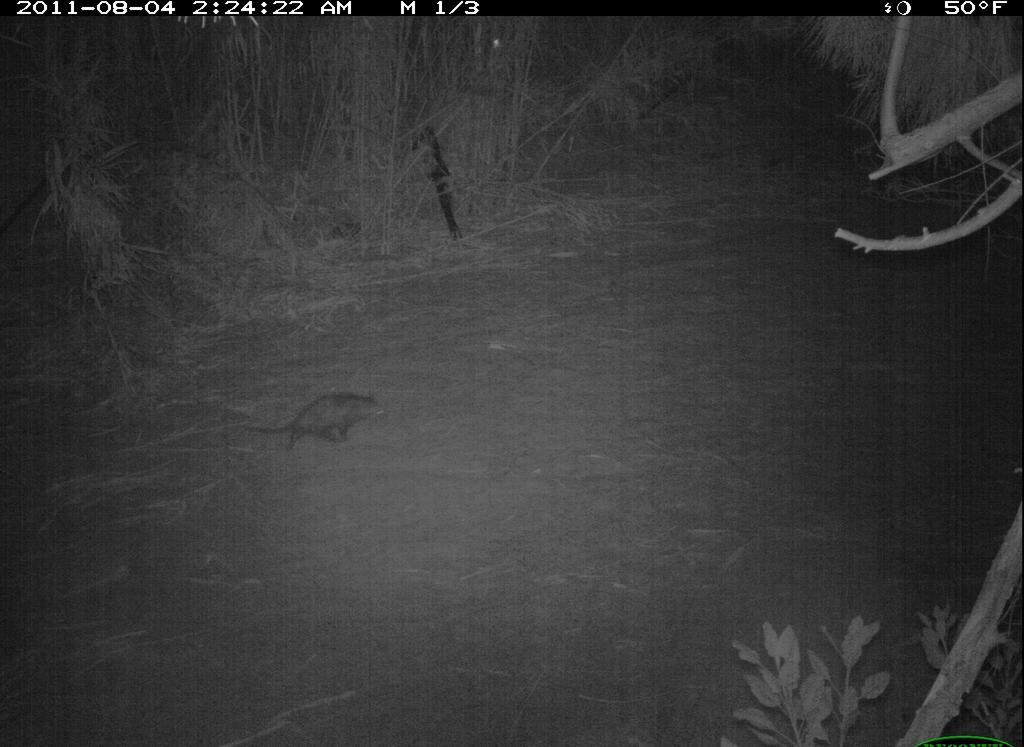opossum: (227, 359, 413, 463)
